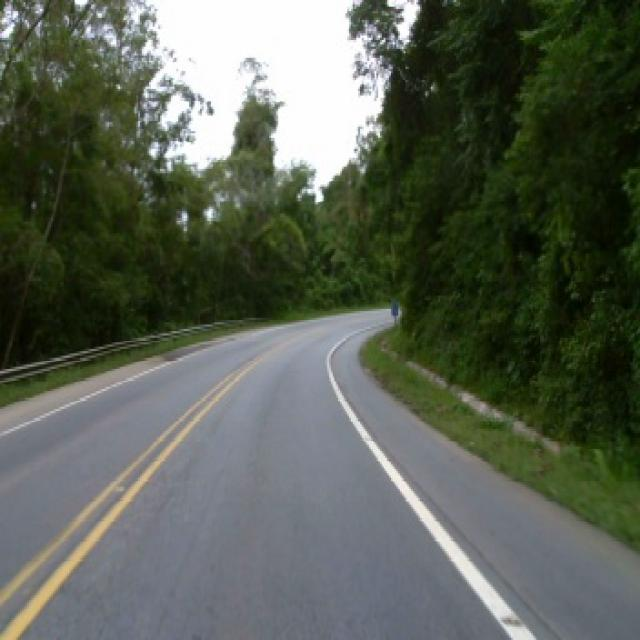Poth-hole: (498, 611, 522, 627), (112, 482, 124, 489)
